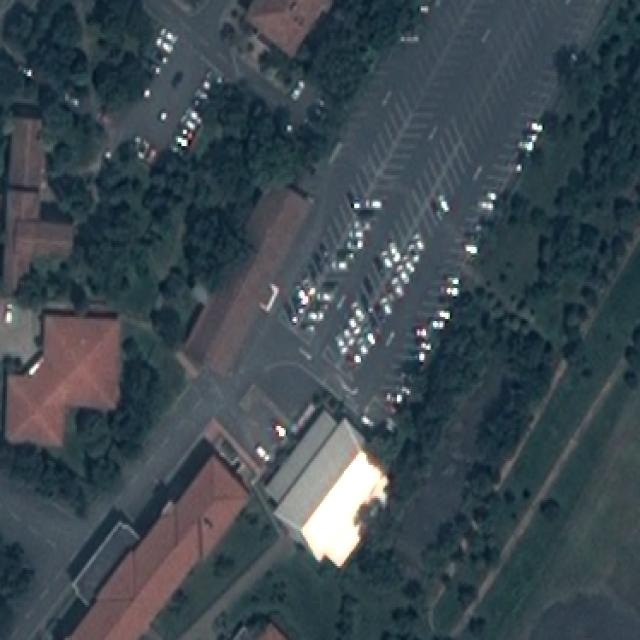Batiment: (70, 457, 249, 640), (184, 189, 311, 375), (265, 410, 387, 566), (6, 311, 120, 446), (246, 1, 333, 56)
